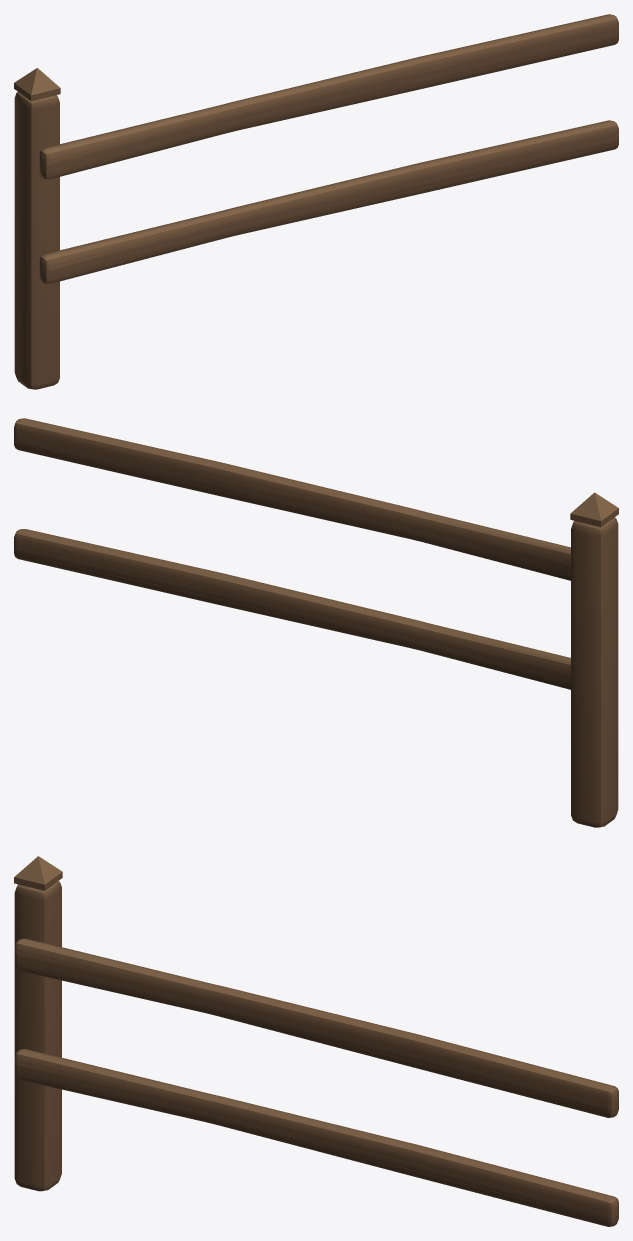
Rendered from fence_segment.glb.
3 views of the same model, one above another, from view 1: azimuth 30°, elevation 25°; view 2: azimuth 150°, elevation 25°; view 3: azimuth 330°, elevation 25° (orthographic). The views are drawn at different scales.
Parts seen in each view (by area): view 1: v0, v1; view 2: v0, v1; view 3: v0, v1.
Part boxes in pixels (x1,y1,x2,y2): v0: (14,14,618,389); v1: (39,26,618,277); v0: (14,418,618,827); v1: (14,430,570,681); v0: (14,856,618,1220); v1: (15,938,618,1226).
Size of the model in its own units: 2.09 by 1.08 by 0.1625.
